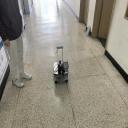cart: (53, 62, 69, 84)
